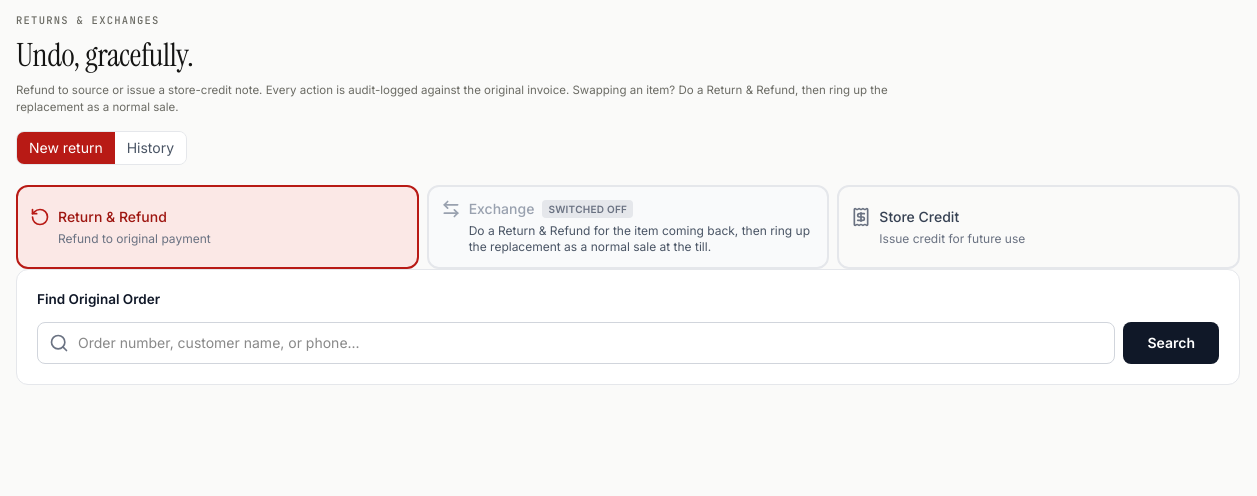
Test case: Returns: find the sale by the unit code on the frame › bv0000000042 finds the order it was sold on
The image size is (1257, 496).
In the field with placeholder "Order number, customer name, or phone...": (576, 343) [37,322,1116,364], type "bv0000000042"
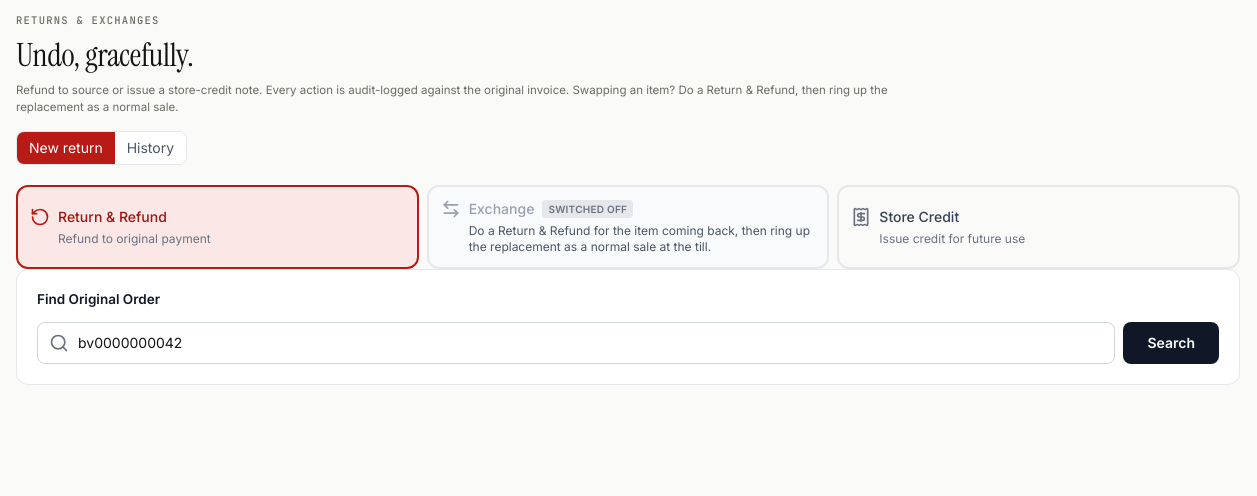
Click the button "Search": click(1171, 343) [1124,322,1219,364]
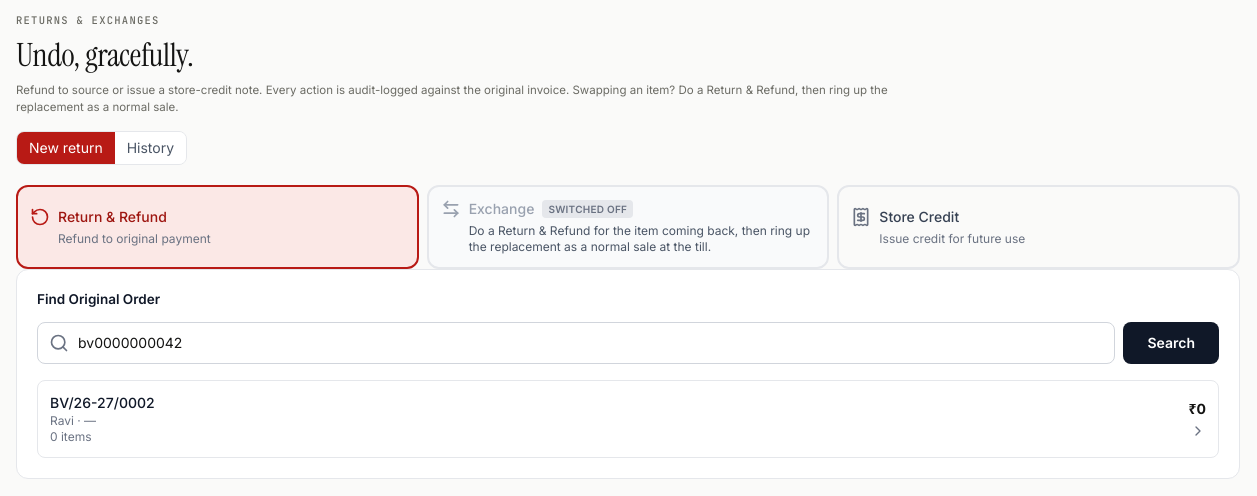
Expected: the text "BV/26-27/0002" is shown, [50,393,155,413]
